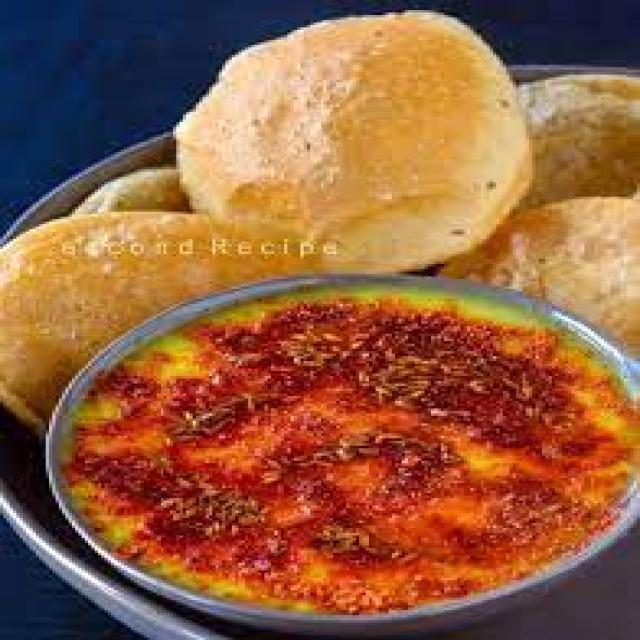CURRY: (58, 288, 637, 614)
POORI: (0, 8, 637, 437)
